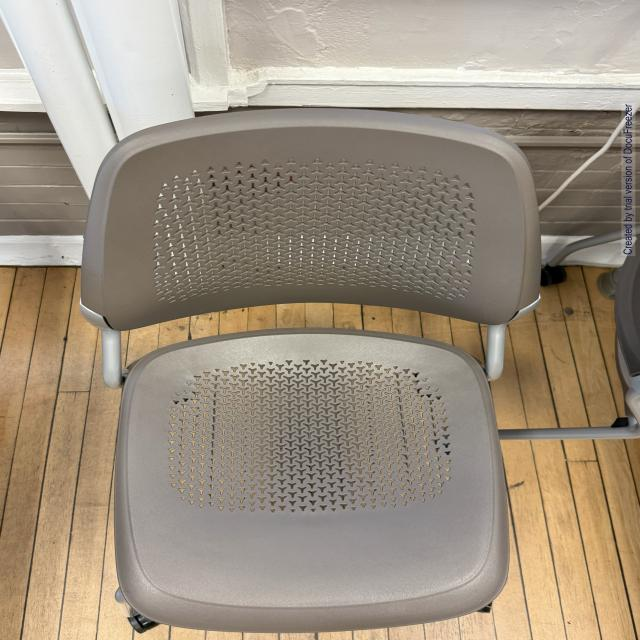chair: (86, 92, 546, 640)
